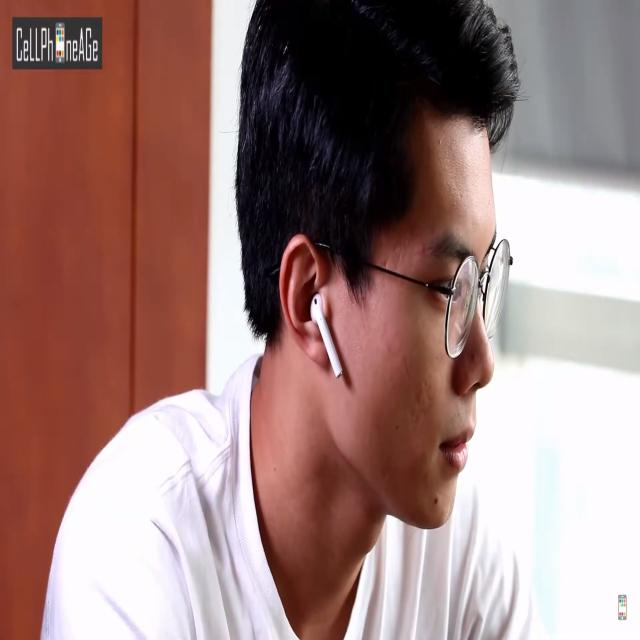airpods: (310, 294, 343, 382)
